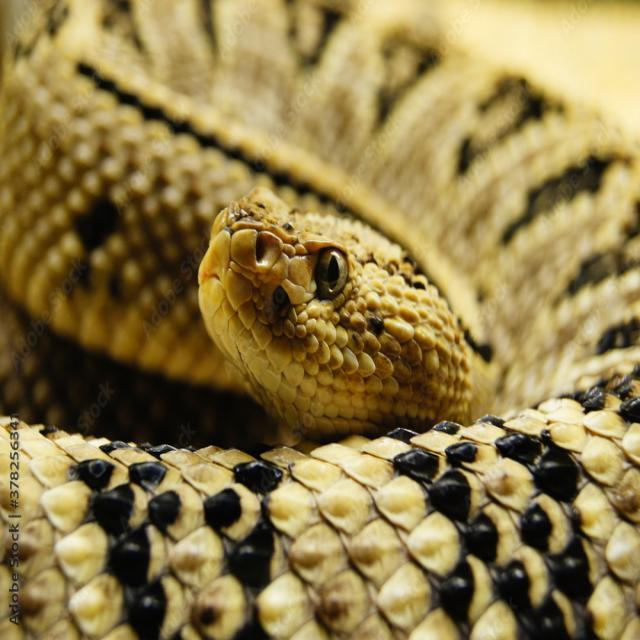Snake: (0, 0, 627, 619)
